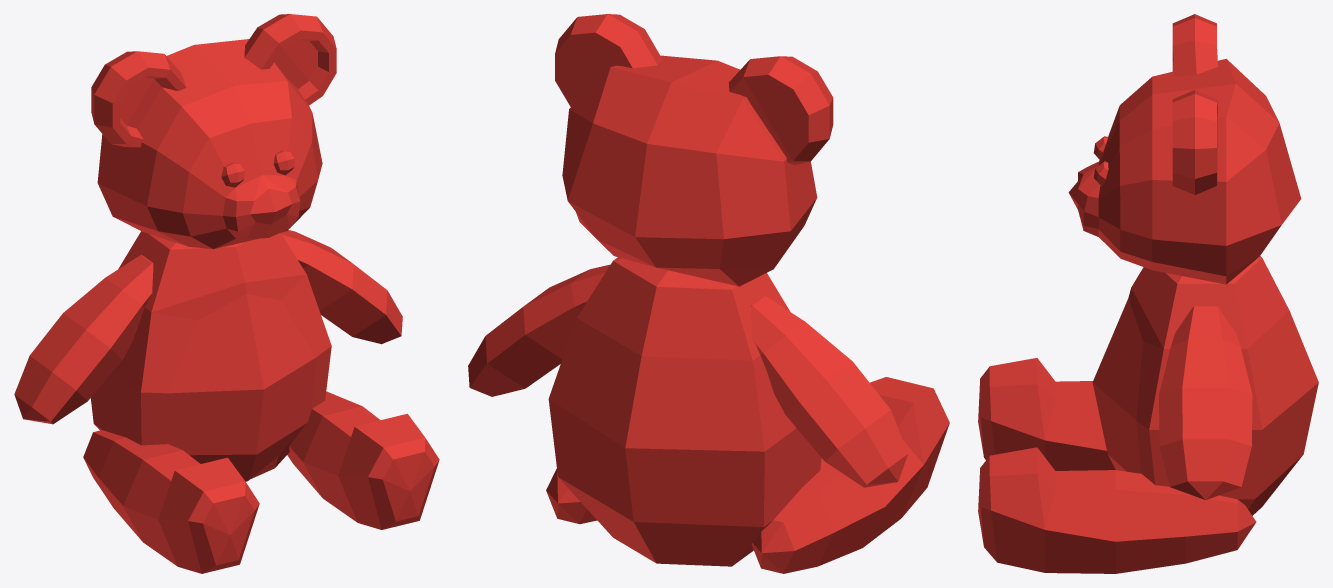
The model's file is SM_Toy_Teddy_Bear_A.fbx.
3 views of the same model, side by side, from view 1: azimuth 30°, elevation 25°; view 2: azimuth 150°, elevation 25°; view 3: azimuth 270°, elevation 25° (orthographic). The views are drawn at different scales.
Parts seen in each view (by area): view 1: toy-teddy-bear-a; view 2: toy-teddy-bear-a; view 3: toy-teddy-bear-a.
Boxes of the visible parts, x1,y1,x2,y2 form: toy-teddy-bear-a: (14,14,439,573); toy-teddy-bear-a: (468,14,949,573); toy-teddy-bear-a: (978,14,1318,573).
Size of the model in its own units: 0.3136 by 0.3725 by 0.2447.
